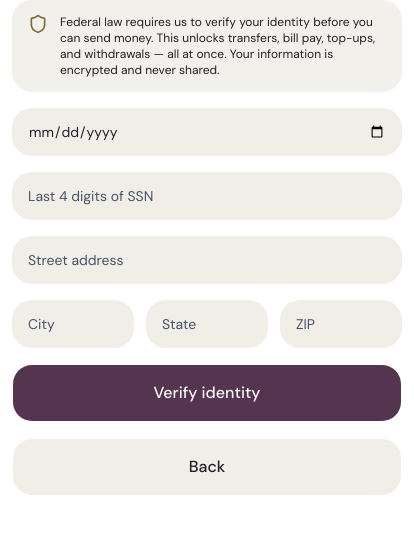
Scenario: IdentityVerificationForm › shows the server error message when verifyIdentity fails outright
This screenshot has width=414, height=544.
Type "99-99 33rd St" into the field with placeholder "Street address".
click(207, 260); type("99-99 33rd St")  # box [12,236,402,284]
Type "Jackson Heights" into the field with placeholder "City".
click(73, 324); type("Jackson Heights")  # box [12,300,134,348]
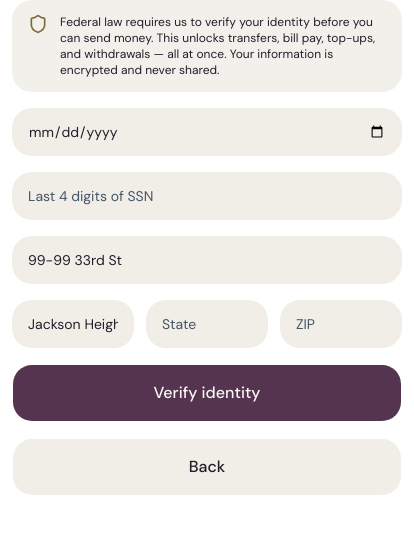
Type "ny" into the field with placeholder "State".
click(207, 324); type("ny")  # box [146,300,268,348]
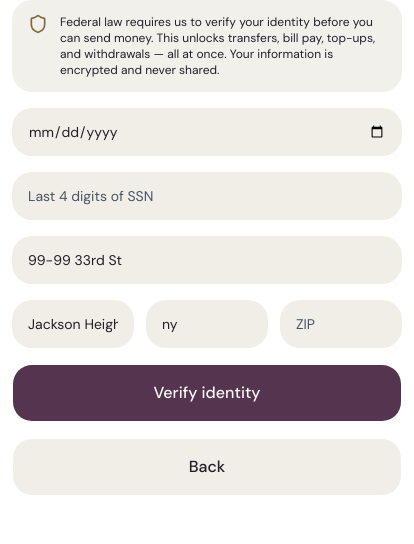
Type "11372" into the field with placeholder "ZIP".
click(341, 324); type("11372")  # box [280,300,402,348]
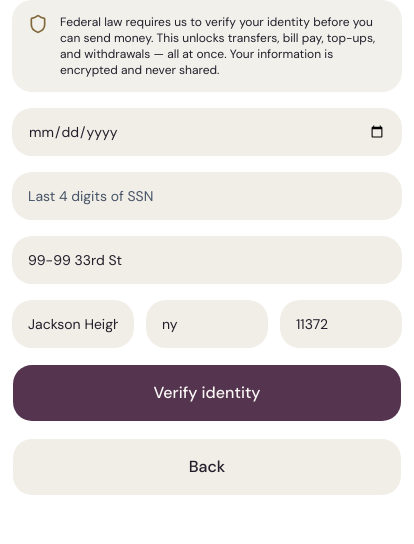
Type "1990-01-01" into the date field.
click(207, 132); type("1990-01-01")  # box [12,108,402,156]
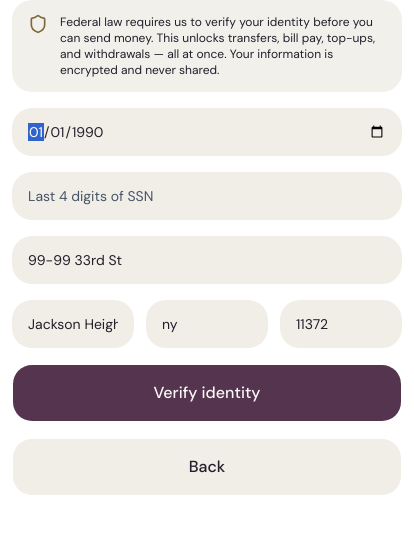
Type "1234" into the field with placeholder "Last 4 digits of SSN".
click(207, 196); type("1234")  # box [12,172,402,220]
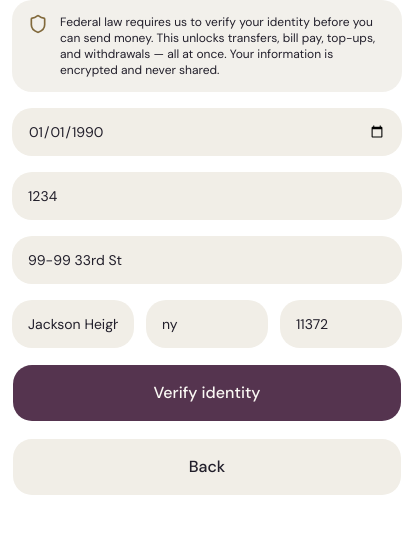
Click the button "Verify identity".
click(207, 393)  # box [12,364,402,422]
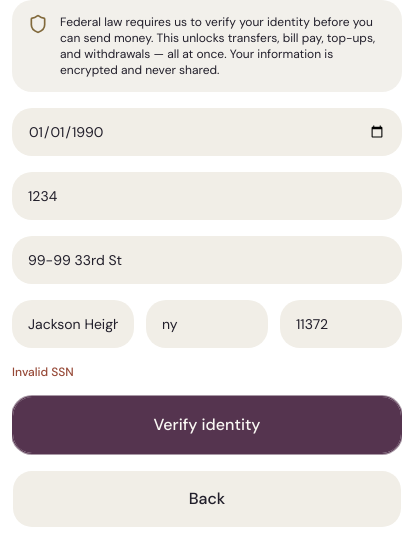
Result: the text "Invalid SSN" is shown at [12,364,74,380]
